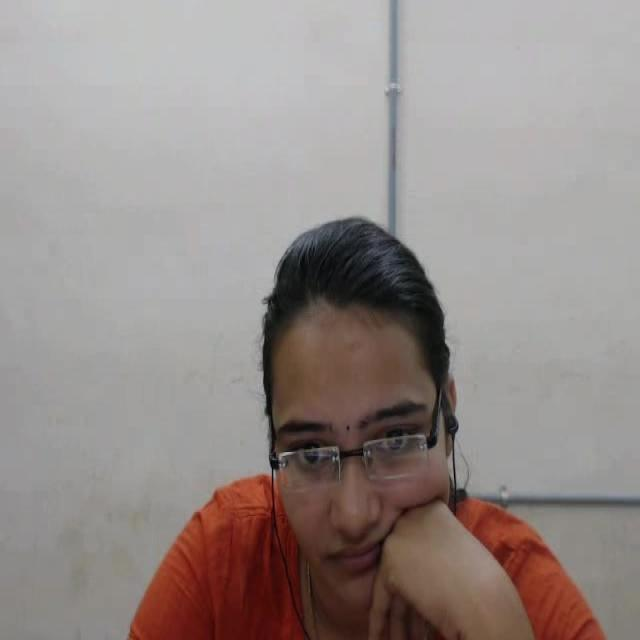Bored: (234, 194, 487, 640)
